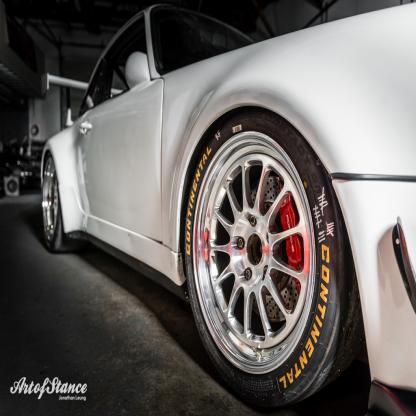Car: (43, 1, 416, 416), (1, 149, 43, 194)
